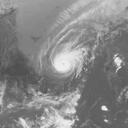cyclone: (49, 39, 79, 75)
